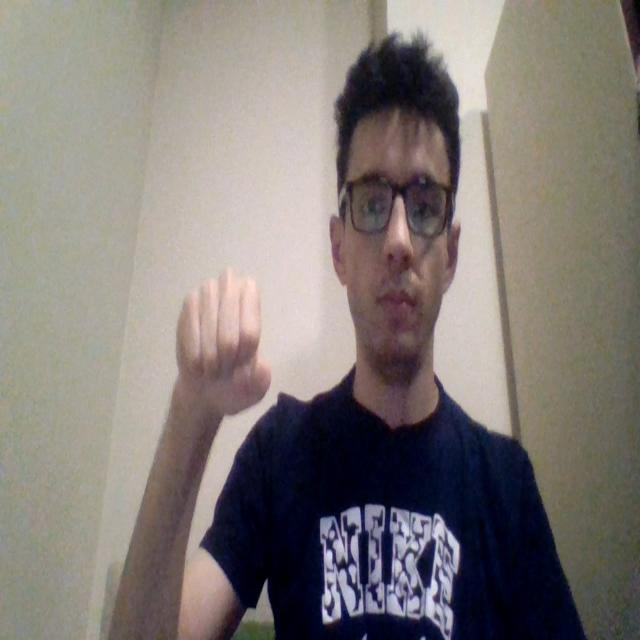yes: (175, 266, 271, 420)
